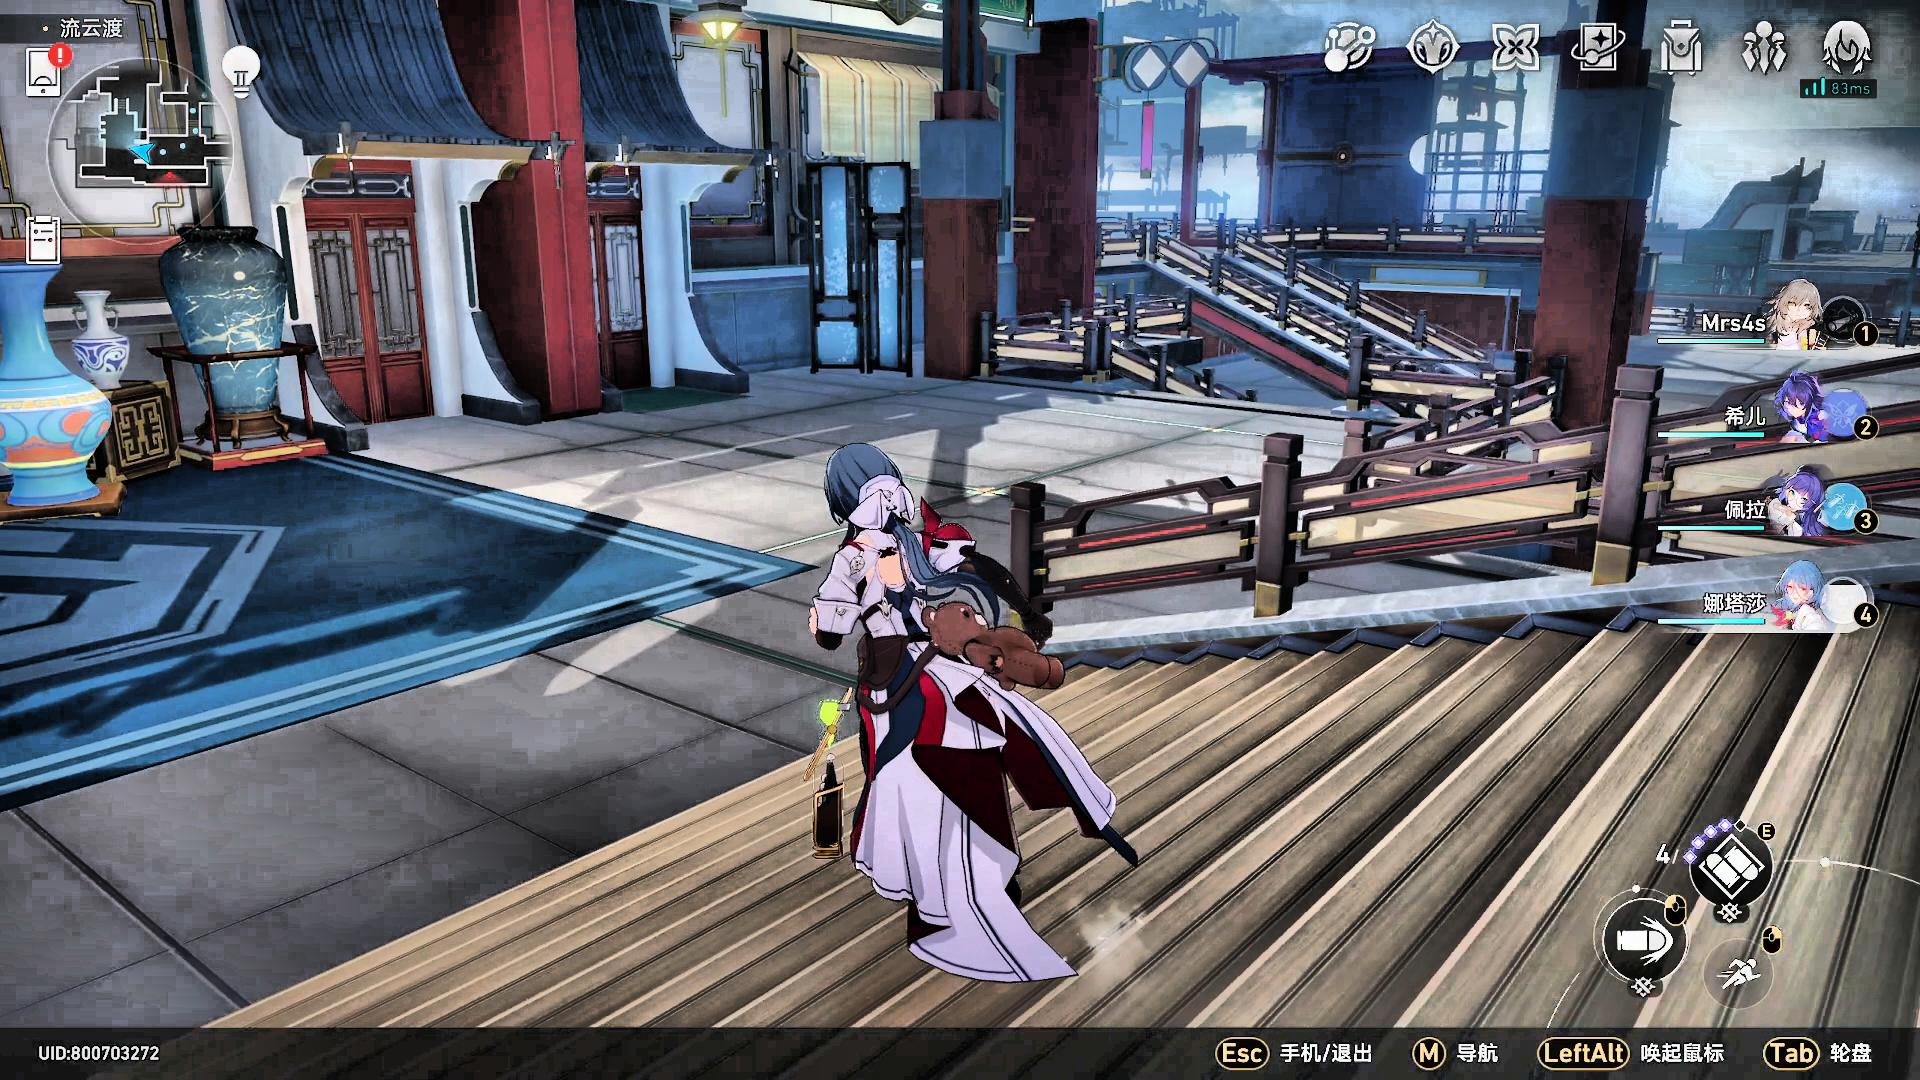Self: (810, 429, 1146, 985)
